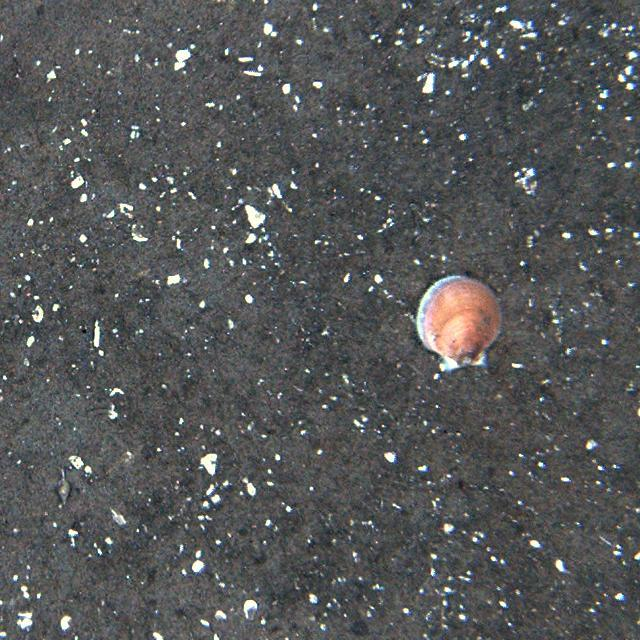scallop: (409, 274, 508, 380)
